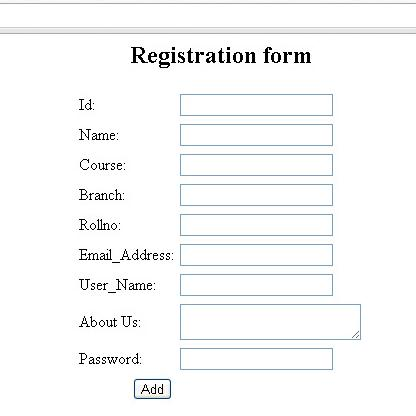button: (132, 377, 175, 401)
field: (178, 303, 362, 342), (177, 211, 335, 238), (178, 346, 335, 372), (178, 273, 336, 298), (178, 242, 335, 267), (178, 123, 334, 148), (179, 93, 336, 117), (178, 153, 335, 177), (178, 183, 335, 207)
field_with_label: (79, 302, 363, 344), (75, 91, 339, 119), (75, 120, 339, 148), (74, 150, 338, 178), (74, 180, 338, 208), (73, 210, 337, 238), (74, 239, 338, 267), (75, 270, 339, 298), (73, 345, 337, 373)
